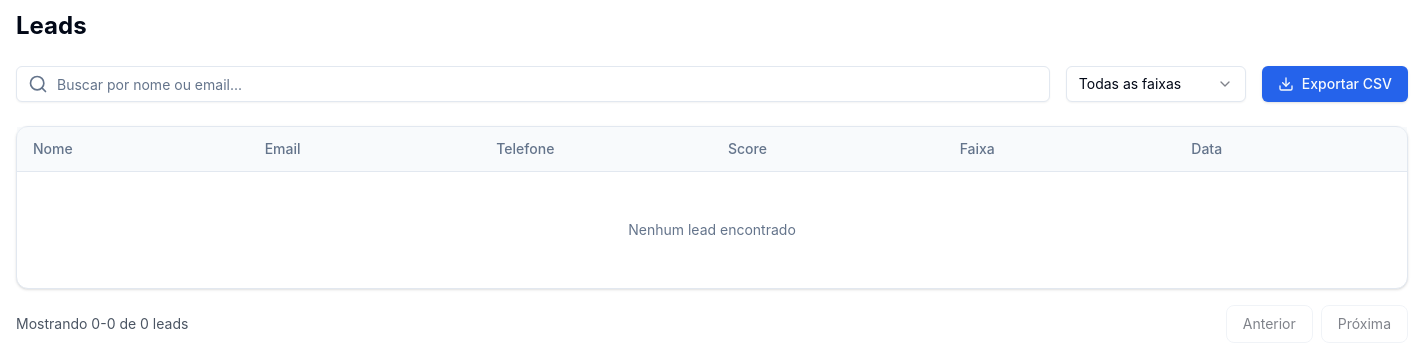
Test case: AdminLeads › should show a filtered empty state when filters are active
This screenshot has width=1425, height=360.
Expected: the text "Nenhum lead encontrado" is shown, top-left (17, 172), bottom-right (1407, 288)
Type "xyz" into the field with placeholder "Buscar por nome ou email...".
click(533, 84); type("xyz")  # box top-left (16, 66), bottom-right (1050, 102)
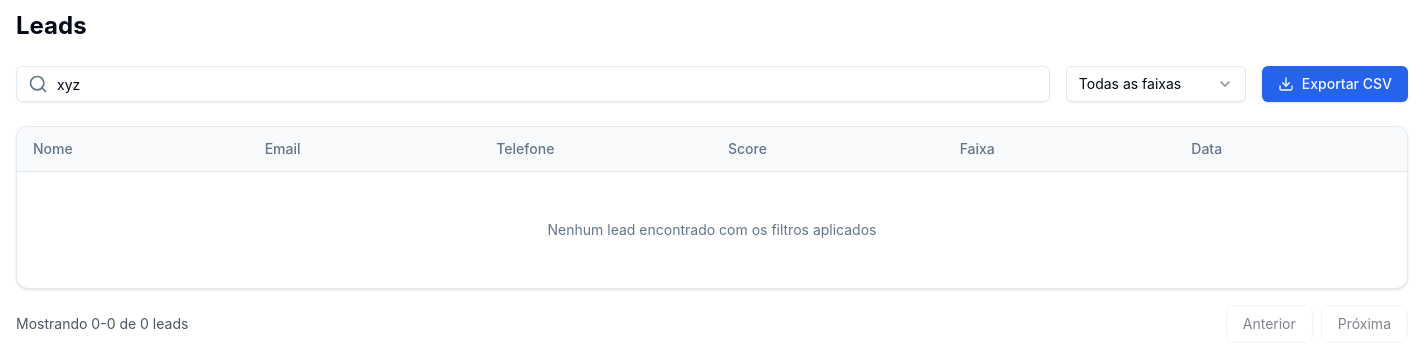
Expected: the text "Nenhum lead encontrado com os filtros aplicados" is shown, top-left (17, 172), bottom-right (1407, 288)
